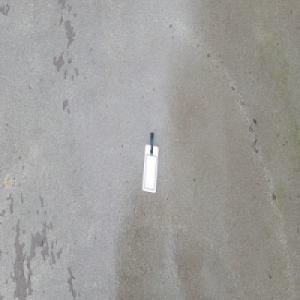LuggageTag: (141, 131, 159, 194)
